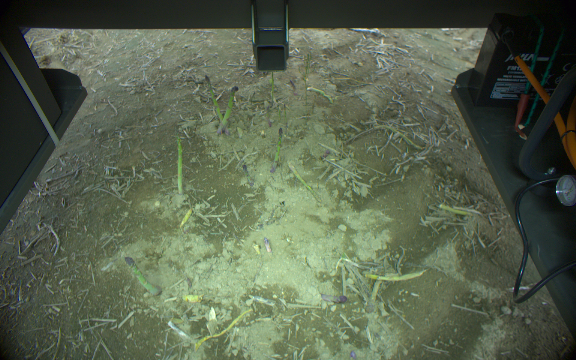aspa: (284, 161, 324, 207), (202, 74, 228, 133), (122, 255, 159, 294), (215, 85, 239, 134), (365, 267, 431, 284), (172, 136, 187, 194), (437, 202, 476, 219), (272, 126, 283, 173), (317, 290, 347, 305)
